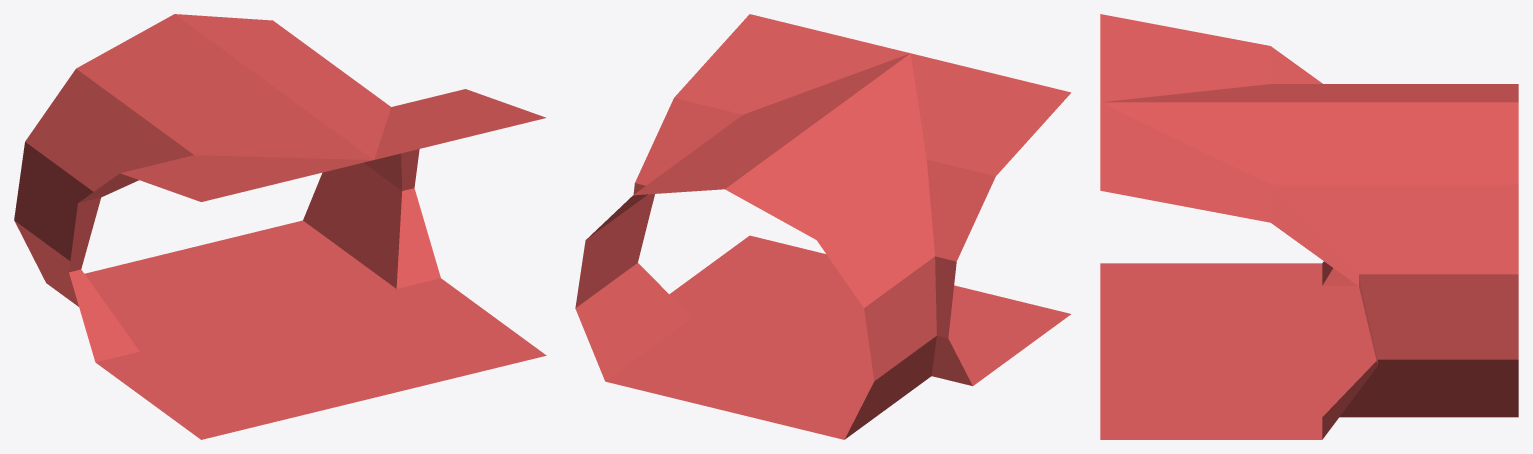
File: mesh_corridor_entrance_COLLISION.fbx
3 views of the same model, side by side, from view 1: azimuth 30°, elevation 25°; view 2: azimuth 150°, elevation 25°; view 3: azimuth 270°, elevation 25° (orthographic). The views are drawn at different scales.
Visible parts, largest first — view 1: mesh_corridor_entrance_COLLISION; view 2: mesh_corridor_entrance_COLLISION; view 3: mesh_corridor_entrance_COLLISION.
Part boxes in pixels (x1,y1,x2,y2): mesh_corridor_entrance_COLLISION: (14, 14, 546, 439); mesh_corridor_entrance_COLLISION: (575, 14, 1071, 439); mesh_corridor_entrance_COLLISION: (1100, 14, 1518, 439).
Size of the model in its own units: 14 by 9.2 by 14.
